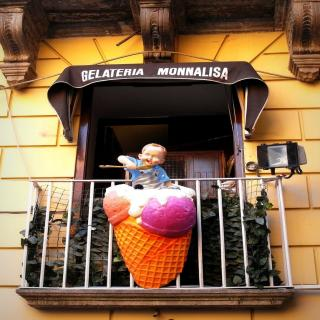Ice cream: (106, 182, 196, 294)
